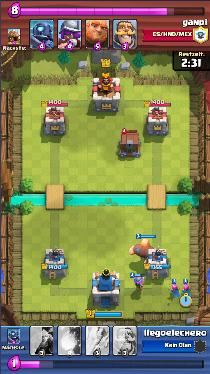ally_archer: (181, 284, 191, 299), (171, 284, 179, 297)
ally_giant: (129, 239, 155, 260)
ally_goblin_cage: (118, 132, 141, 158)
ally_musketeer: (133, 274, 146, 291)
